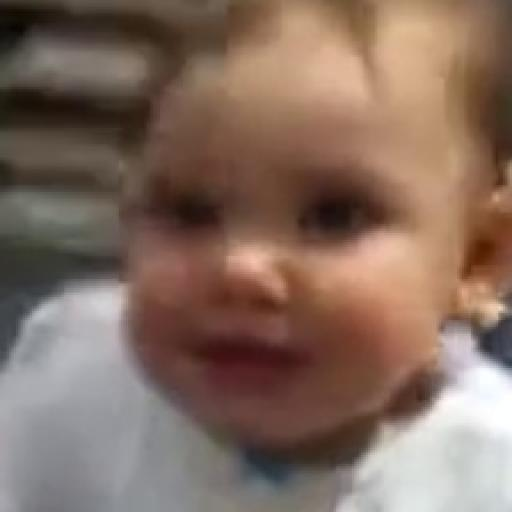Autism: (127, 73, 495, 431)
